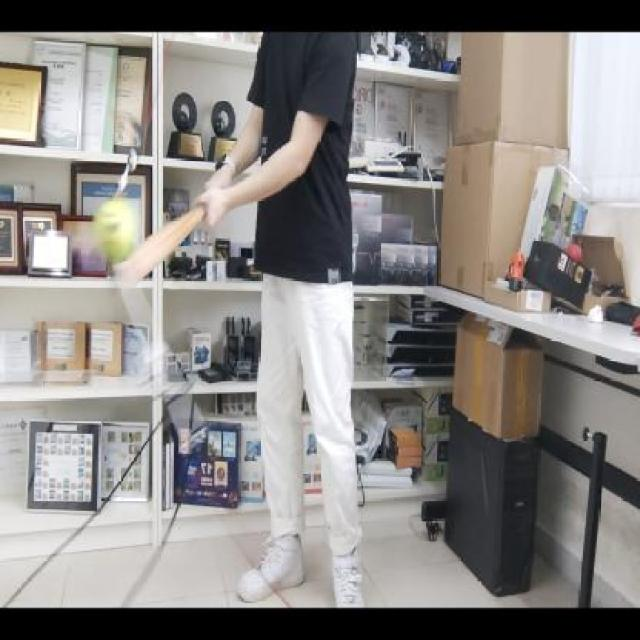baseball: (90, 198, 139, 260)
